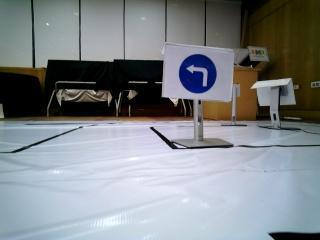left: (170, 48, 225, 98)
